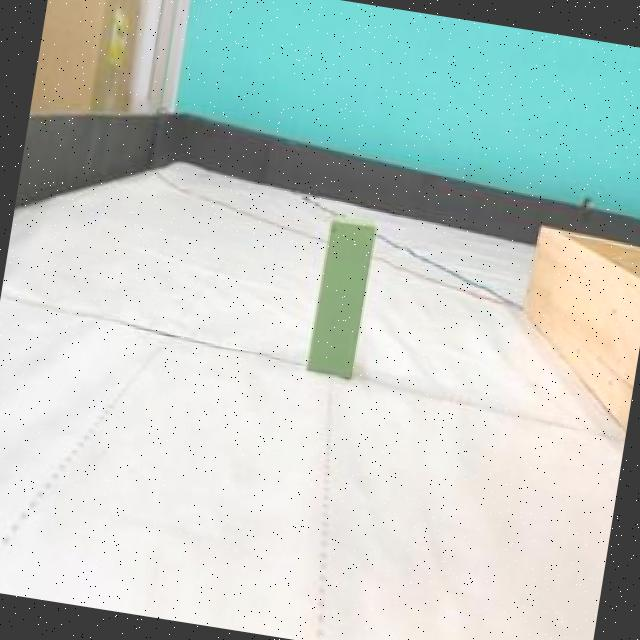greenbox: (305, 212, 378, 378)
